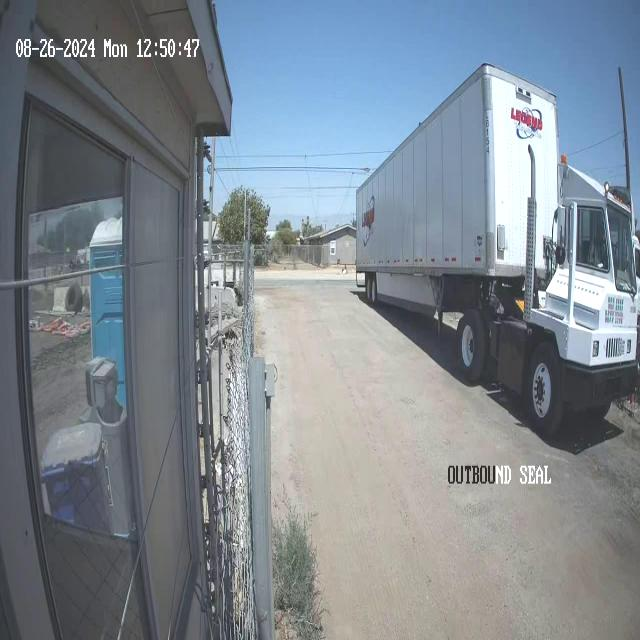TRUCK_CONTAINER: (354, 61, 638, 437)
